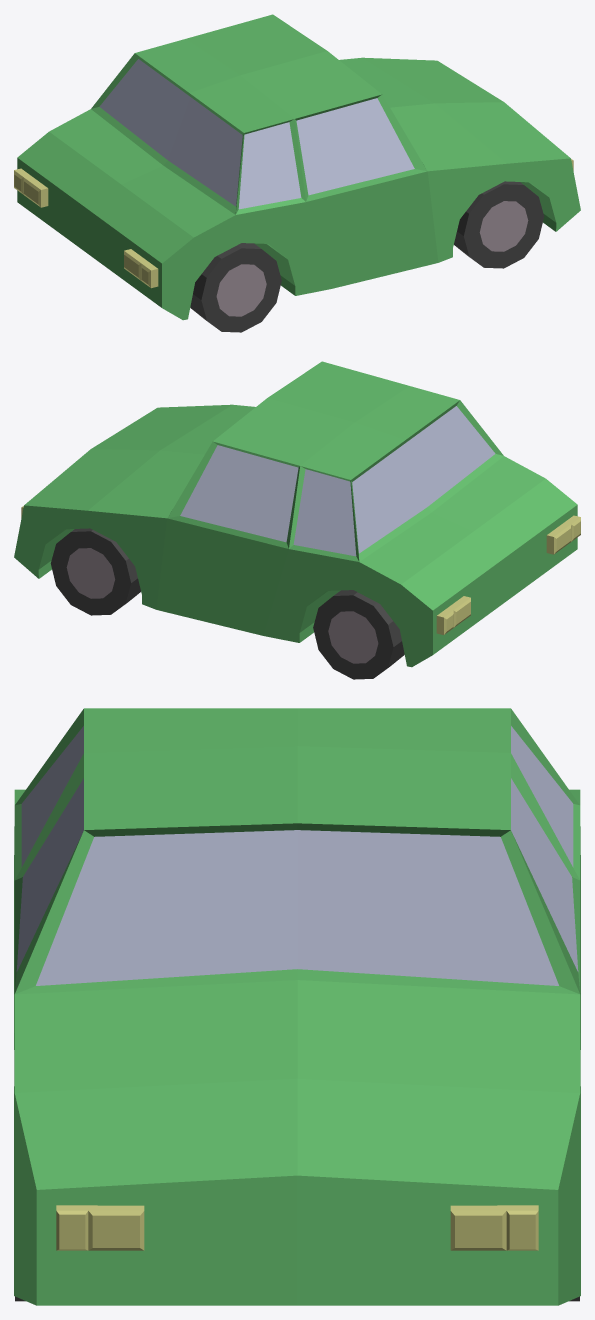
The model's file is car_green.fbx.
The picture shows the model from 3 angles, top to bottom: view 1: azimuth 30°, elevation 25°; view 2: azimuth 150°, elevation 25°; view 3: azimuth 270°, elevation 25°; orthographic projection. The views are drawn at different scales.
Visible parts, largest first — view 1: Cube; view 2: Cube; view 3: Cube.
Boxes of the visible parts, x1,y1,x2,y2 form: Cube: (14, 14, 580, 332); Cube: (14, 361, 580, 679); Cube: (14, 708, 580, 1305).
Size of the model in its own units: 572 by 240 by 332.
